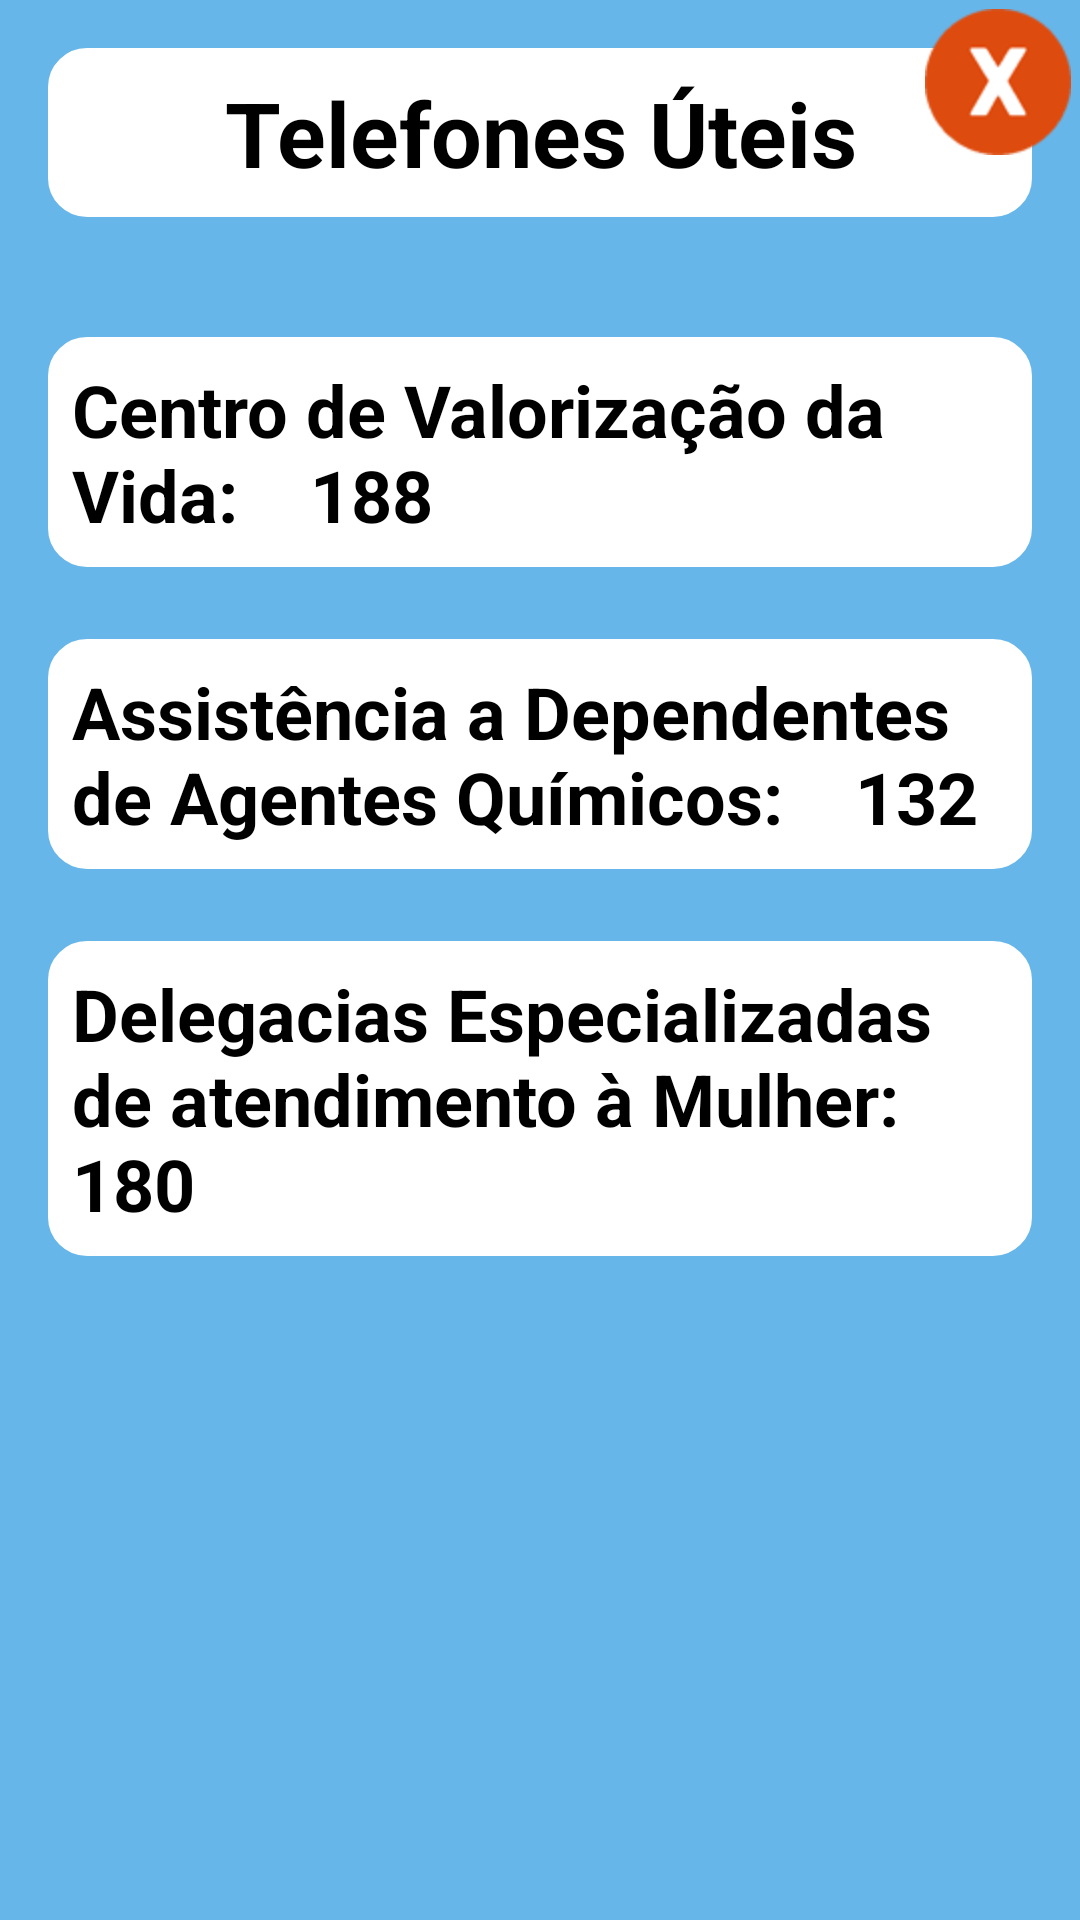

Screen size 1080w x 1920h. Icon name, then its center in pixels as [x,y]:
iconex: [998,82]
